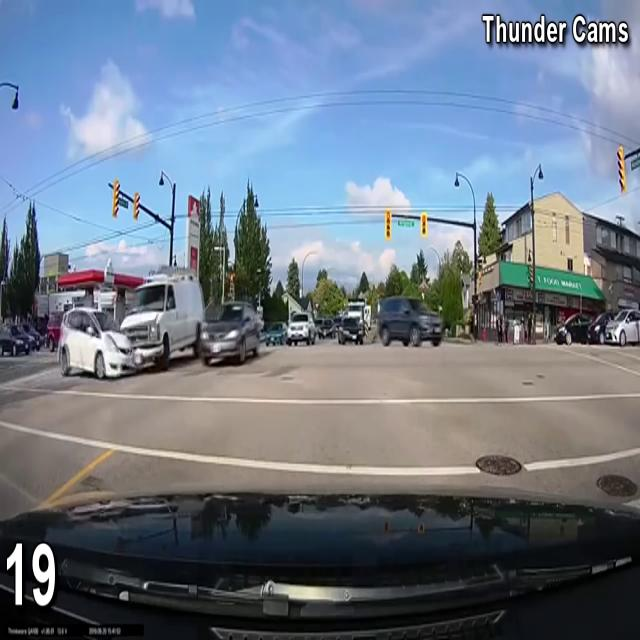accident: (57, 265, 194, 391)
